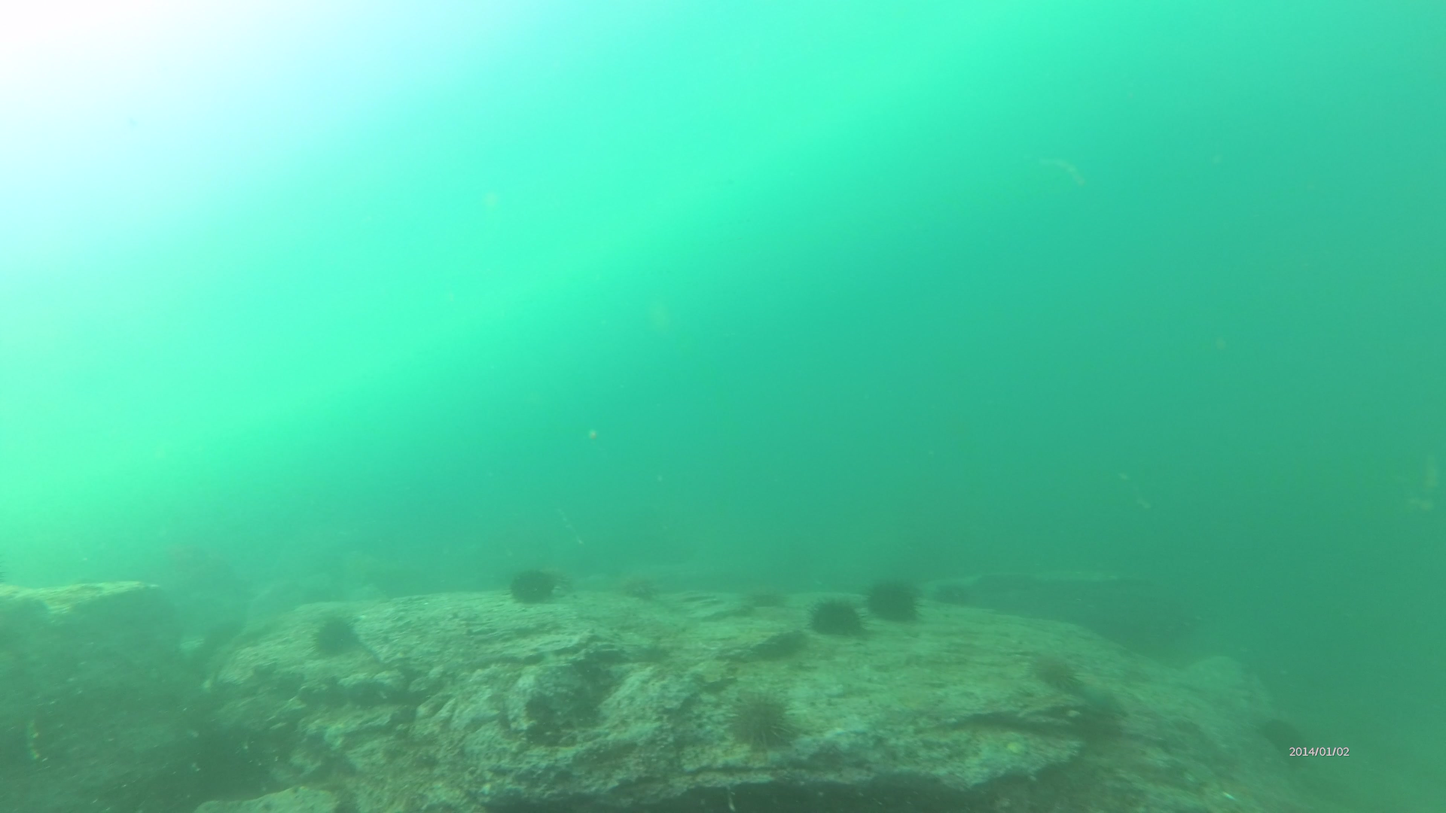starfish: (726, 691, 796, 750), (1262, 717, 1312, 769), (865, 577, 916, 624), (812, 595, 863, 642), (508, 568, 561, 608), (1033, 653, 1083, 695), (310, 616, 356, 656)
